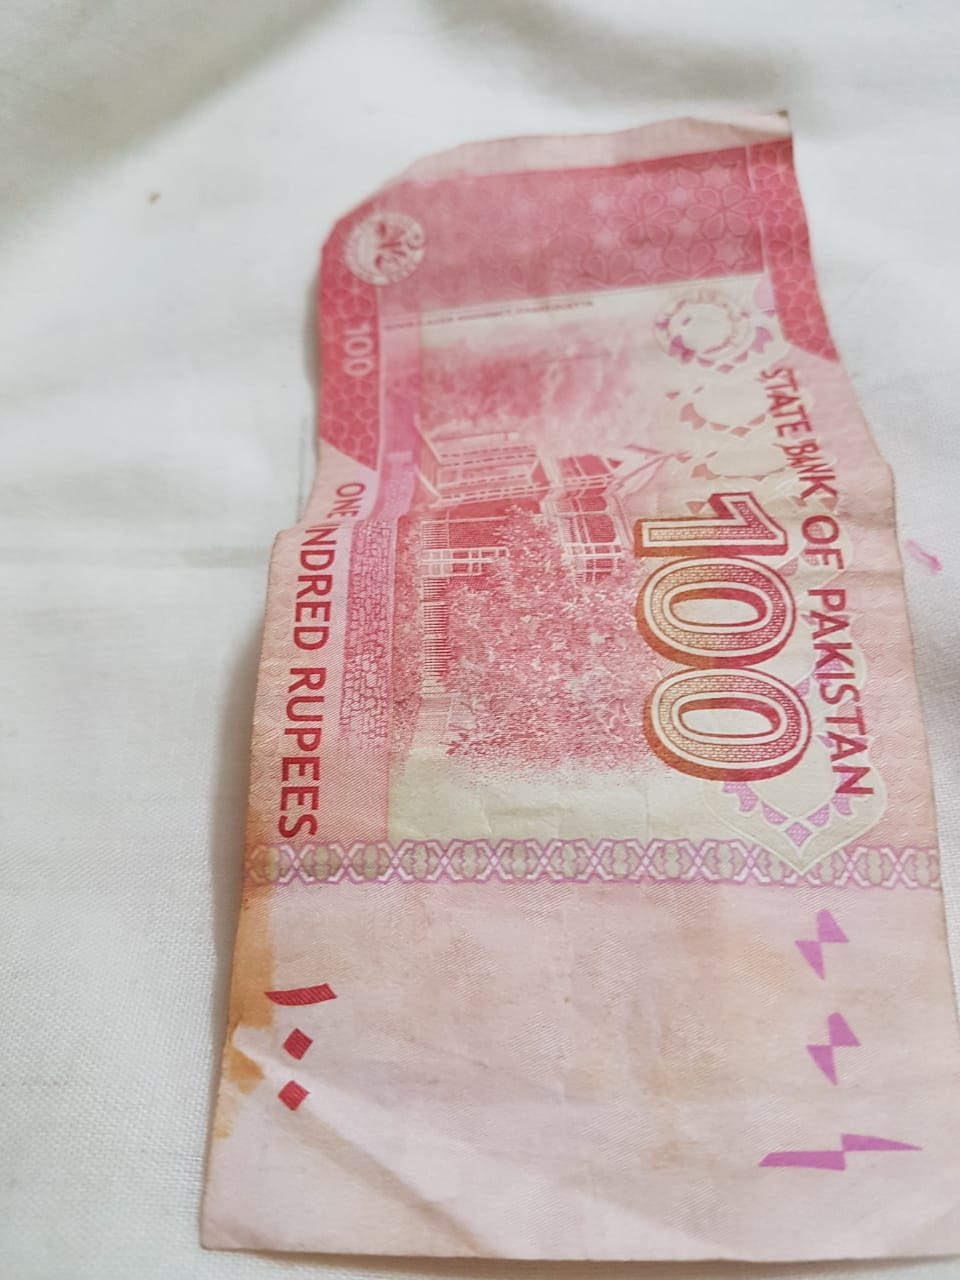100 rupee: (189, 98, 957, 1250)
